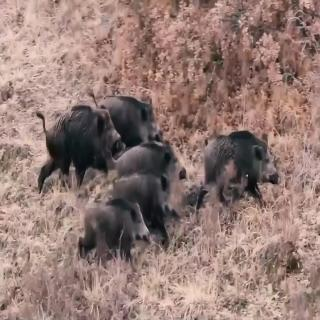Pig: (34, 85, 119, 207), (195, 130, 284, 198), (116, 130, 194, 202), (87, 187, 152, 269), (96, 72, 166, 148)
